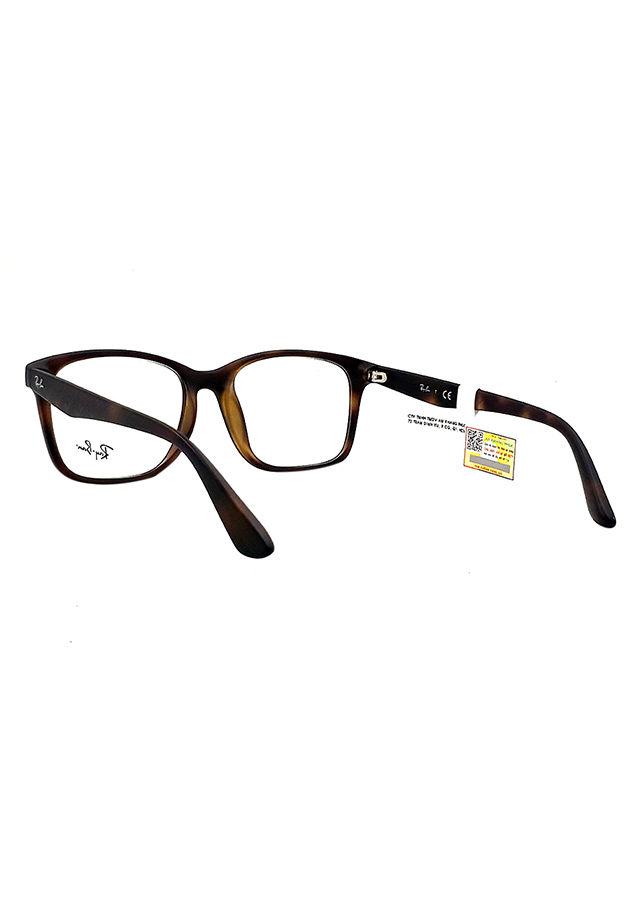Rayban: (69, 433, 121, 464), (30, 366, 53, 395), (411, 377, 433, 394)
